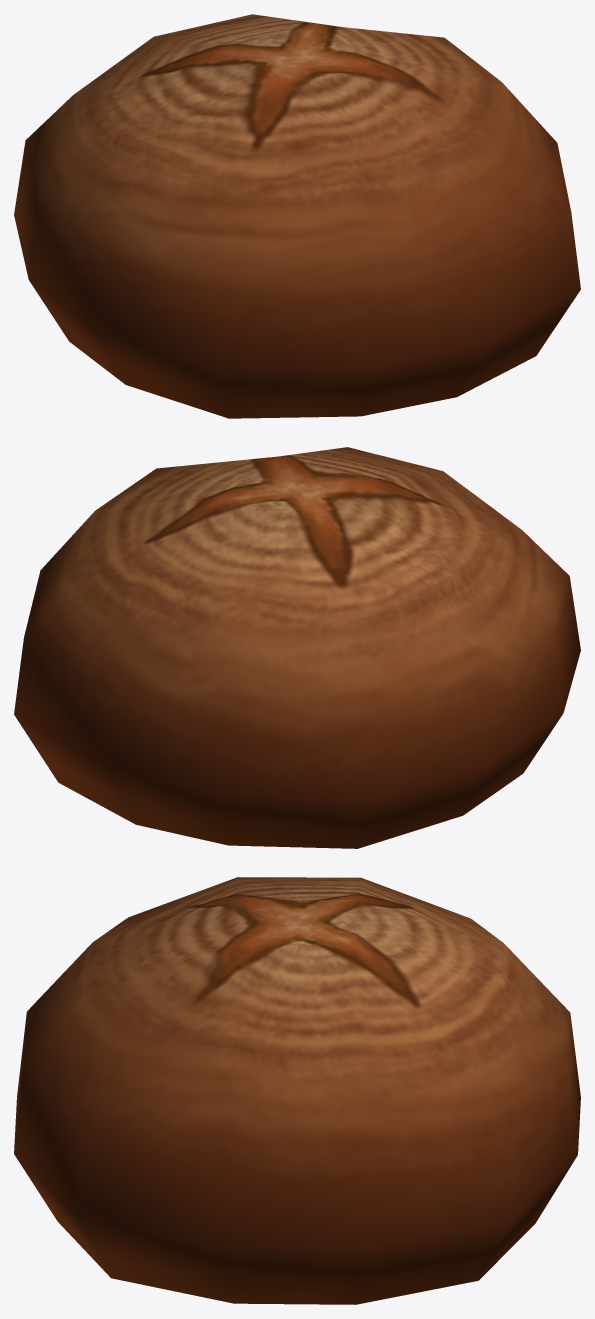
The model's file is Pumpernickel.fbx.
3 views of the same model, one above another, from view 1: azimuth 30°, elevation 25°; view 2: azimuth 150°, elevation 25°; view 3: azimuth 270°, elevation 25° (orthographic). The views are drawn at different scales.
Parts seen in each view (by area): view 1: Pumpernickel; view 2: Pumpernickel; view 3: Pumpernickel.
Boxes of the visible parts, <box> form: Pumpernickel: <box>14,14,580,418</box>; Pumpernickel: <box>14,447,580,848</box>; Pumpernickel: <box>14,877,580,1304</box>.
Bounding box in the file's own units: 68.76 × 41.95 × 69.14.
